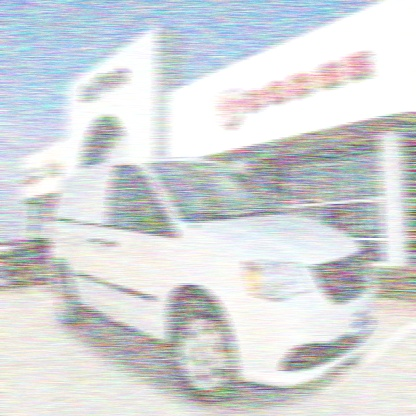Vehicle: (50, 158, 377, 412)
